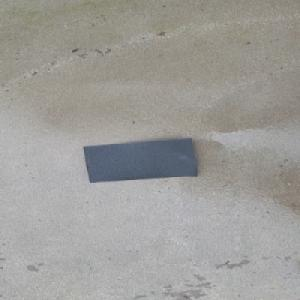PaintChip: (82, 137, 199, 183)
